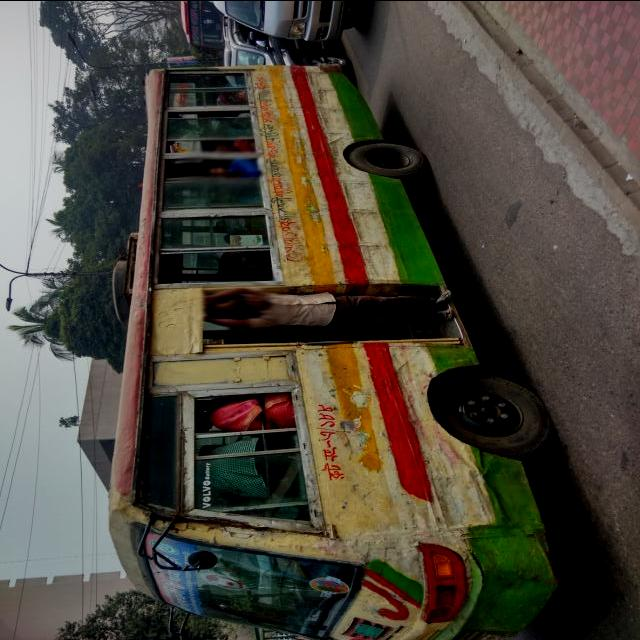bus: (107, 63, 562, 640)
